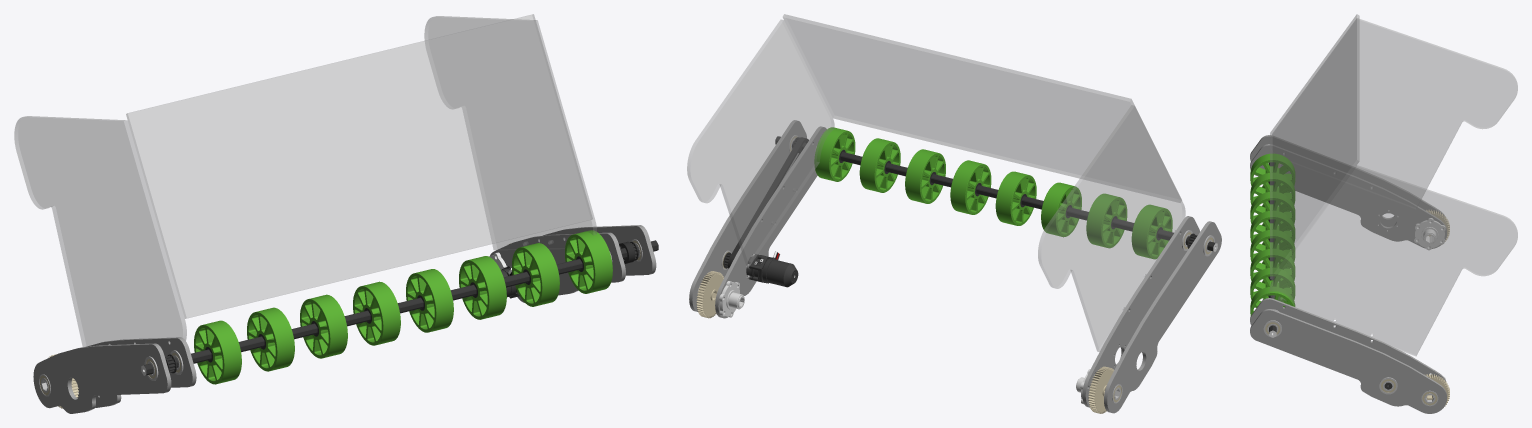
3 views of the same model, side by side, from view 1: azimuth 30°, elevation 25°; view 2: azimuth 150°, elevation 25°; view 3: azimuth 270°, elevation 25° (orthographic). The views are drawn at different scales.
Parts seen in each view (by area): view 1: Part 9, Hopperwall (×2), 3" Compliant Wheel (35A, 1" Wide, 1/2" Hex Bore) (×8), Live Plate (×2), Dead Plate (×2), 1/2" Rounded Hex (29"L 13.75mm OD); view 2: Hopperwall (×2), Part 9, 3" Compliant Wheel (35A, 1" Wide, 1/2" Hex Bore) (×8), Live Plate (×2), Dead Plate (×2), 1/2" Rounded Hex (29"L 13.75mm OD), 52t Aluminum Spur Gear (20 DP, 1/2" Hex Bore) (×2), 105T 5M 9mm Wide Belt, NEO 550 Brushless Motor, 1/2" Hex Hub (0.875" OD, 1.875" Bolt Circle); view 3: Hopperwall (×2), Part 9, Live Plate (×2), Dead Plate (×2), 3" Compliant Wheel (35A, 1" Wide, 1/2" Hex Bore) (×8), 1/2" Hex Hub (0.875" OD, 1.875" Bolt Circle), 1/2" Rounded Hex (29"L 13.75mm OD).
Boxes of the visible parts, bbox=[...] form: Part 9: bbox=[126, 14, 592, 318]; Hopperwall (×2): bbox=[14, 16, 596, 346]; 3" Compliant Wheel (35A, 1" Wide, 1/2" Hex Bore) (×8): bbox=[194, 230, 612, 384]; Live Plate (×2): bbox=[33, 225, 656, 413]; Dead Plate (×2): bbox=[77, 232, 625, 407]; 1/2" Rounded Hex (29"L 13.75mm OD): bbox=[141, 240, 658, 375]; Hopperwall (×2): bbox=[687, 19, 1185, 351]; Part 9: bbox=[783, 14, 1181, 202]; 3" Compliant Wheel (35A, 1" Wide, 1/2" Hex Bore) (×8): bbox=[814, 127, 1172, 259]; Live Plate (×2): bbox=[689, 120, 1221, 413]; Dead Plate (×2): bbox=[715, 126, 1199, 407]; 1/2" Rounded Hex (29"L 13.75mm OD): bbox=[775, 136, 1217, 251]; 52t Aluminum Spur Gear (20 DP, 1/2" Hex Bore) (×2): bbox=[696, 271, 1113, 413]; 105T 5M 9mm Wide Belt: bbox=[728, 137, 808, 268]; NEO 550 Brushless Motor: bbox=[762, 251, 798, 287]; 1/2" Hex Hub (0.875" OD, 1.875" Bolt Circle): bbox=[719, 281, 744, 317]; Hopperwall (×2): bbox=[1270, 18, 1517, 355]; Part 9: bbox=[1270, 14, 1359, 279]; Live Plate (×2): bbox=[1250, 135, 1446, 413]; Dead Plate (×2): bbox=[1250, 144, 1446, 395]; 3" Compliant Wheel (35A, 1" Wide, 1/2" Hex Bore) (×8): bbox=[1250, 153, 1295, 315]; 1/2" Hex Hub (0.875" OD, 1.875" Bolt Circle): bbox=[1414, 218, 1445, 250]; 1/2" Rounded Hex (29"L 13.75mm OD): bbox=[1269, 162, 1276, 337].
Bounding box in the file's own units: 0.7366 × 0.4472 × 0.4539.
